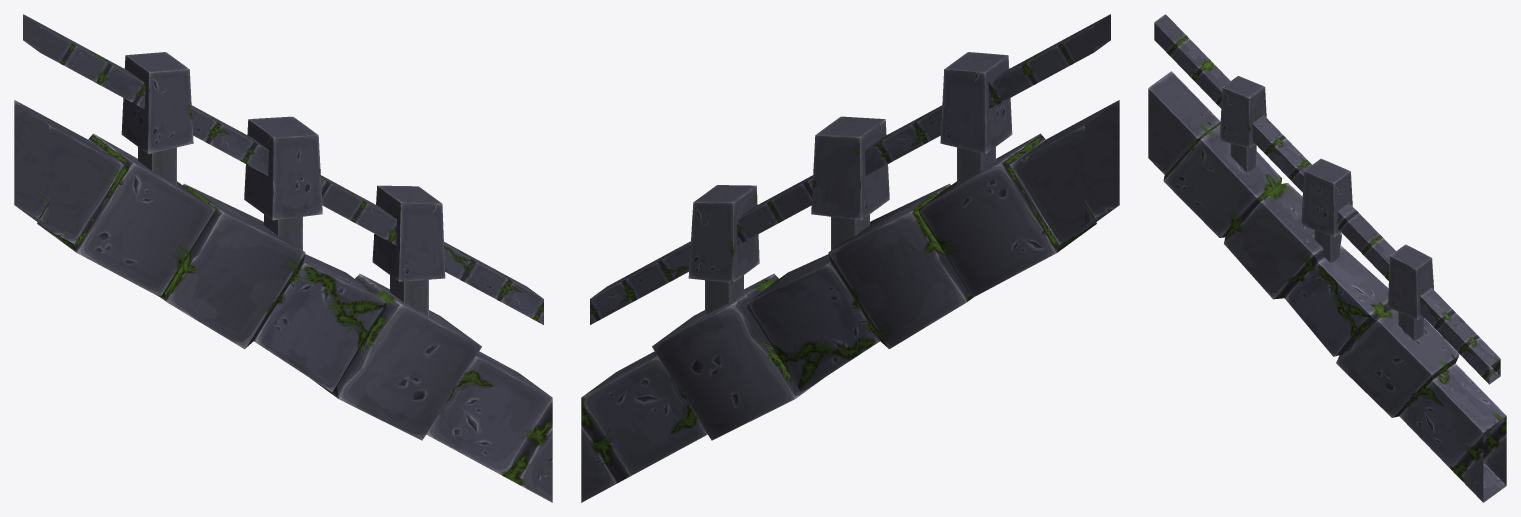
The model's file is MOD_Stairs_01_Railing_2.fbx.
The picture shows the model from 3 angles, left to right: view 1: azimuth 30°, elevation 25°; view 2: azimuth 150°, elevation 25°; view 3: azimuth 330°, elevation 25°; orthographic projection. The views are drawn at different scales.
Parts seen in each view (by area): view 1: MOD_Stairs_01_Railing_2; view 2: MOD_Stairs_01_Railing_2; view 3: MOD_Stairs_01_Railing_2.
Boxes of the visible parts, left/top/right/bottom form: MOD_Stairs_01_Railing_2: left=14, top=14, right=552, bottom=502; MOD_Stairs_01_Railing_2: left=581, top=14, right=1119, bottom=502; MOD_Stairs_01_Railing_2: left=1148, top=14, right=1506, bottom=502.
Size of what is drawn, in the model's own units: 400 by 450 by 59.08.
